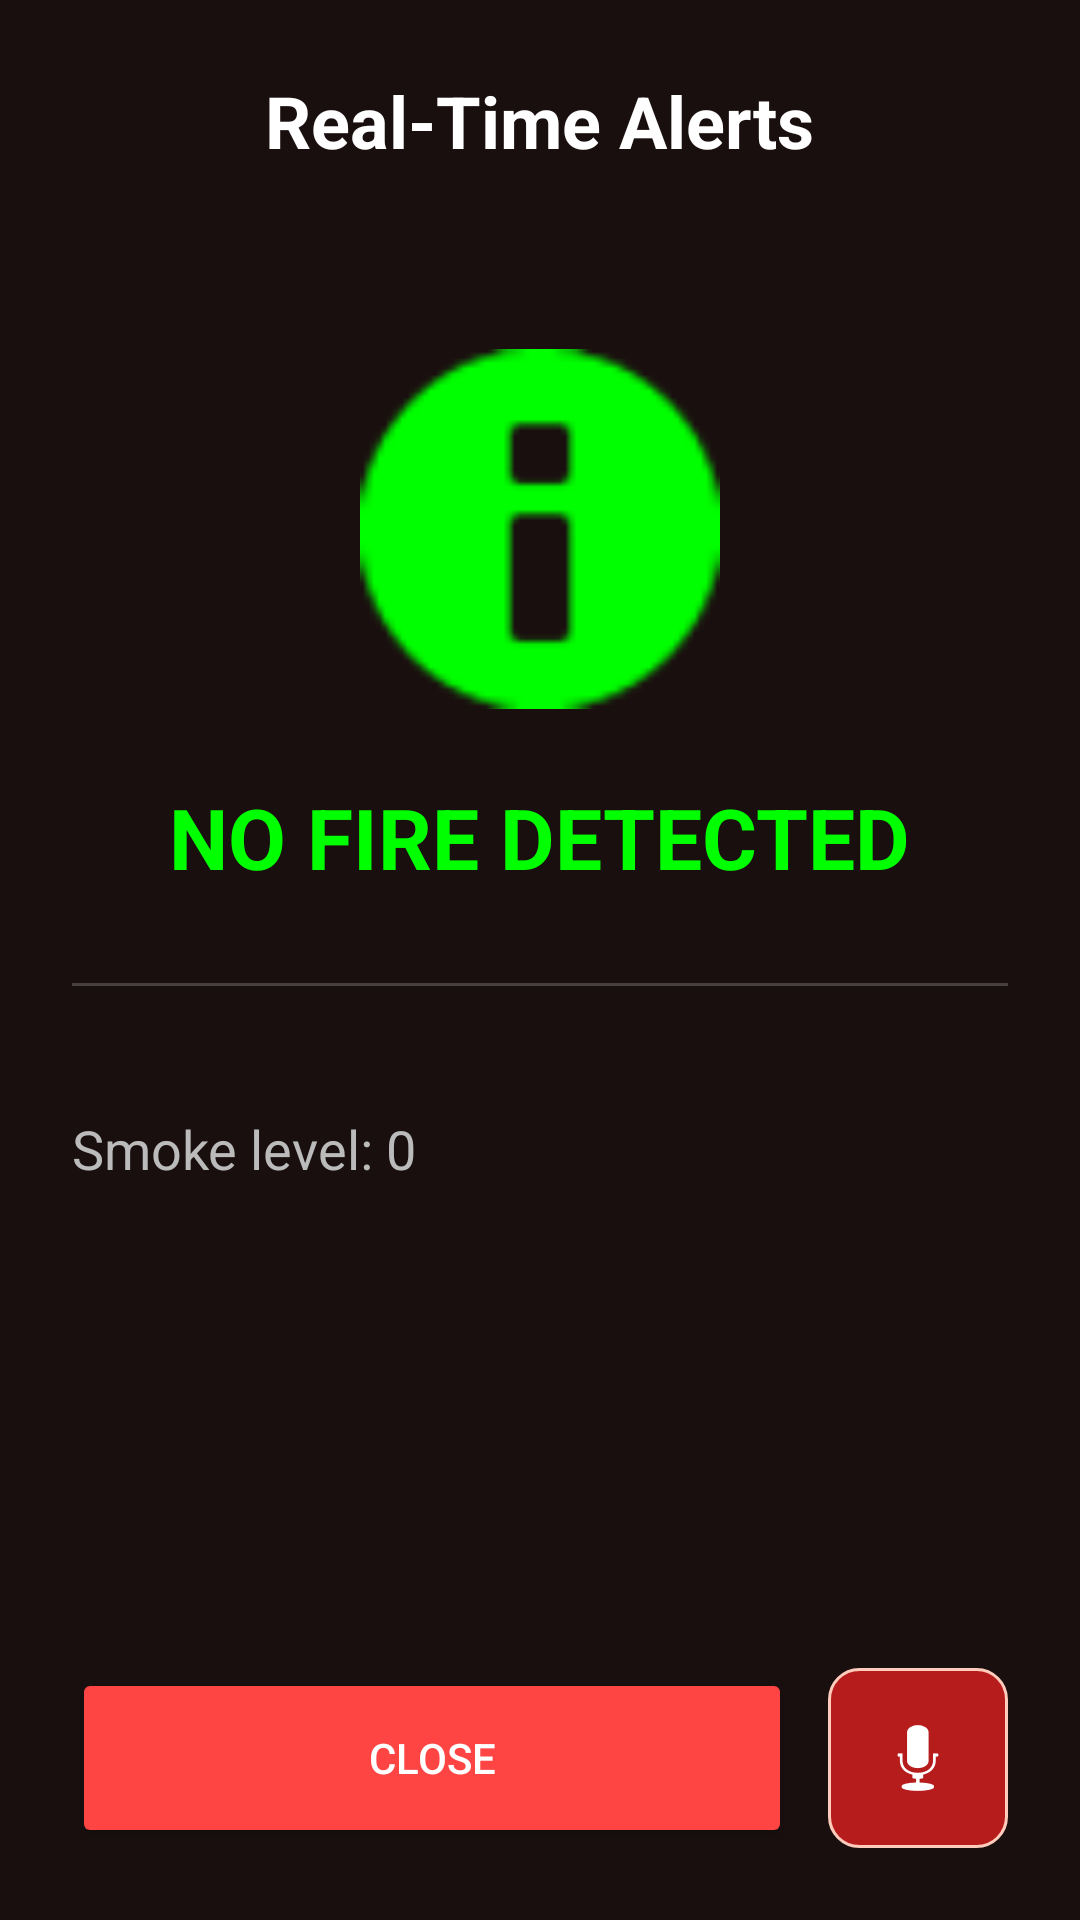

Where icons sit on this 1080px×1920px app screen, as (x1, y1, x2, y2):
info: (360, 349, 720, 709)
Voice Command: (828, 1668, 1008, 1848)
